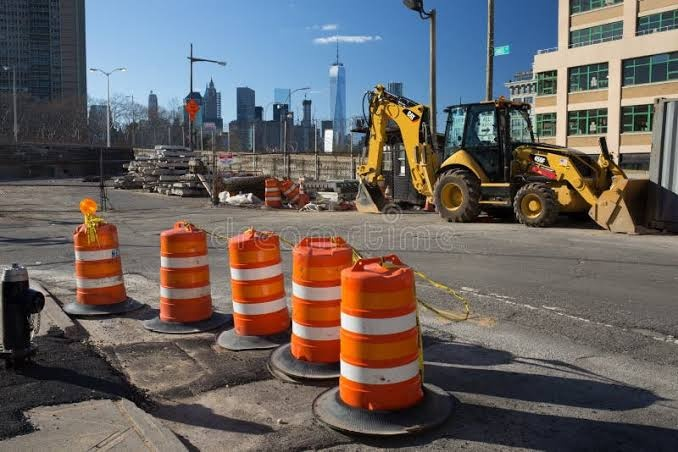machinery: (347, 75, 652, 238)
safety_cone: (335, 250, 422, 422), (288, 231, 351, 374), (151, 217, 221, 336), (64, 199, 132, 312), (224, 228, 289, 339), (256, 174, 288, 211), (277, 178, 312, 207)
